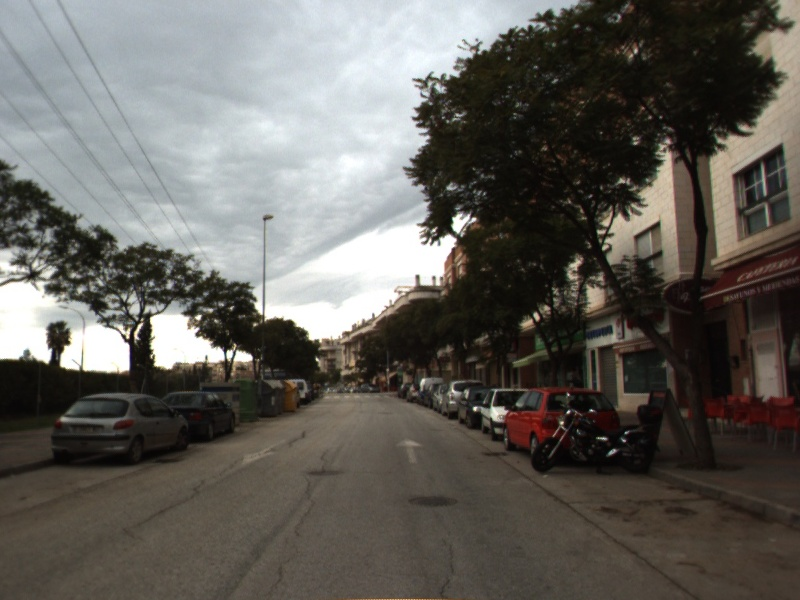STRAIGHT: (393, 435, 427, 465)
